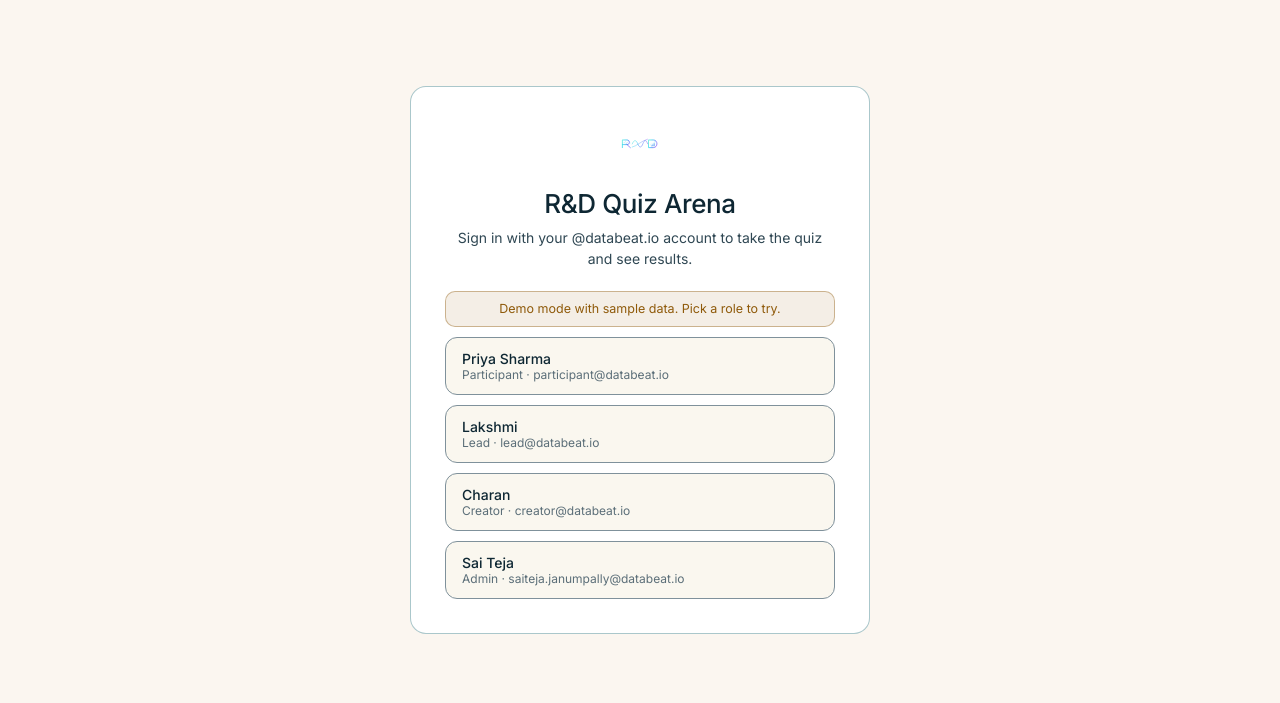
it: leaderboards › greys the name of someone whose profile was removed
Click the button "Priya Sharma Participant · participant@databeat.io".
click(640, 366)  # box [445,337,835,395]
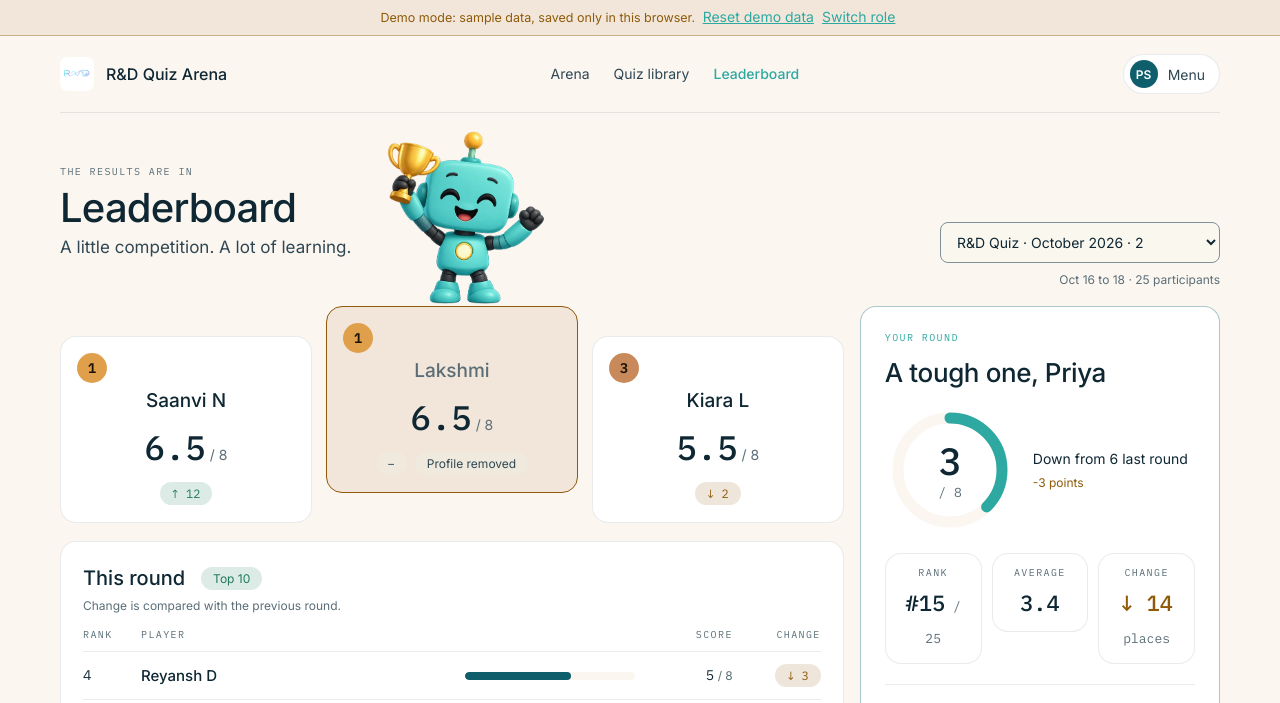
Result: the text "Profile removed" is shown at [415,452,528,475]
